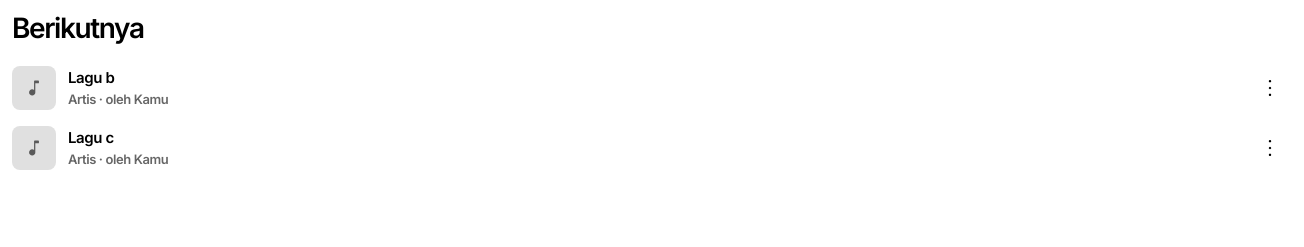
QueueList edge cases › does not reopen a bar that closed because its actions vanished
The width and height of the screenshot is (1304, 247).
Later steps or results of the test are not shown.
Step 1. Click the button named "Aksi: Lagu c" → (1270, 148), box [1248, 126, 1292, 170]
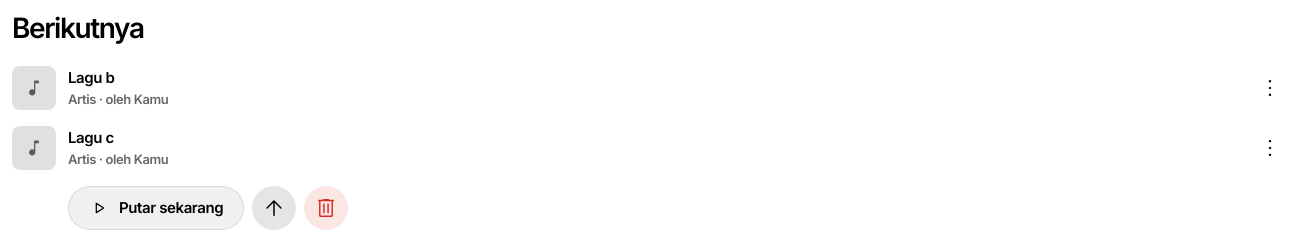
Check: the element with class "row-actions" is shown, box [68, 186, 348, 230]
